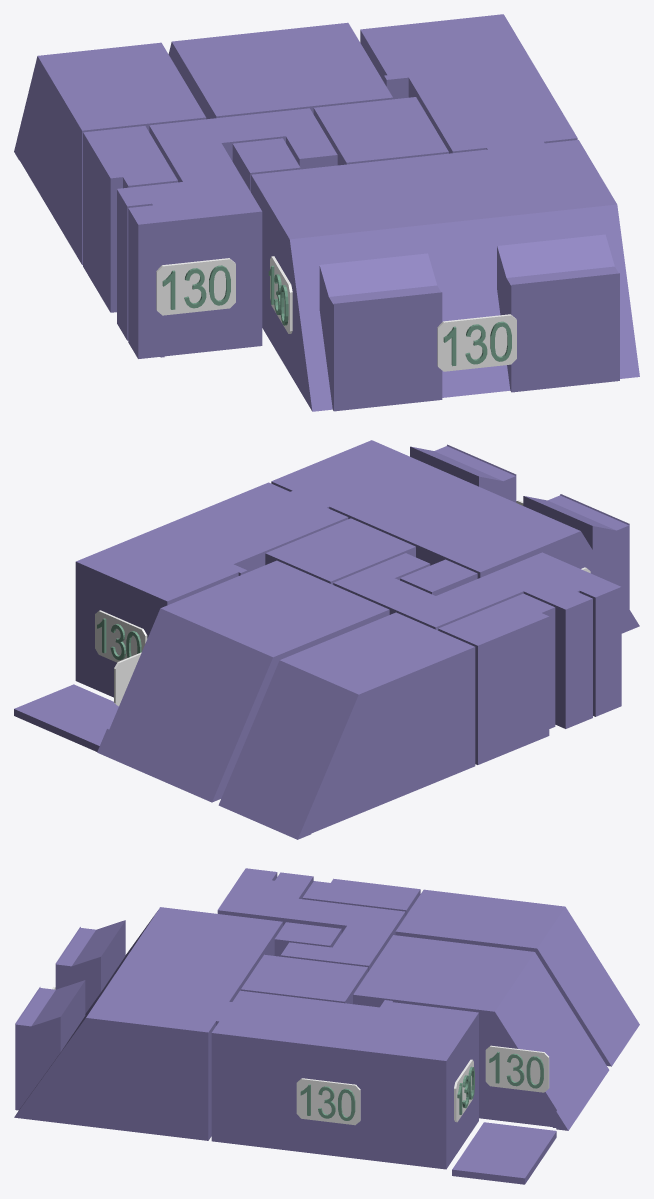
3 views of the same model, one above another, from view 1: azimuth 30°, elevation 25°; view 2: azimuth 150°, elevation 25°; view 3: azimuth 270°, elevation 25° (orthographic). The views are drawn at different scales.
Visible parts, largest first — view 1: g_0, g_5, g_1, g_3, g_2, g_7, g_4, g_28, g_32, g_6, g_12; view 2: g_3, g_2, g_0, g_1, g_5, g_7, g_4, g_8, g_6, g_20, g_24; view 3: g_0, g_1, g_2, g_3, g_5, g_8, g_4, g_7, g_24, g_16, g_6, g_20.
Boxes of the visible parts, bbox=[...] form: g_0: bbox=[251, 140, 639, 411]; g_5: bbox=[117, 108, 337, 358]; g_1: bbox=[360, 14, 577, 153]; g_3: bbox=[14, 42, 206, 264]; g_2: bbox=[168, 22, 392, 119]; g_7: bbox=[83, 126, 177, 312]; g_4: bbox=[313, 97, 448, 165]; g_28: bbox=[437, 314, 516, 371]; g_32: bbox=[156, 258, 235, 315]; g_6: bbox=[232, 138, 300, 191]; g_12: bbox=[270, 256, 292, 333]; g_3: bbox=[218, 612, 475, 839]; g_2: bbox=[97, 560, 389, 802]; g_0: bbox=[271, 440, 639, 633]; g_1: bbox=[75, 482, 348, 697]; g_5: bbox=[333, 552, 621, 728]; g_7: bbox=[438, 593, 555, 764]; g_4: bbox=[265, 518, 415, 584]; g_8: bbox=[14, 684, 118, 751]; g_6: bbox=[400, 559, 477, 595]; g_20: bbox=[95, 610, 147, 662]; g_24: bbox=[114, 652, 141, 706]; g_0: bbox=[14, 907, 282, 1140]; g_1: bbox=[211, 990, 478, 1169]; g_2: bbox=[353, 935, 609, 1130]; g_3: bbox=[395, 889, 639, 1066]; g_5: bbox=[217, 868, 405, 971]; g_8: bbox=[452, 1122, 556, 1184]; g_4: bbox=[241, 954, 368, 1004]; g_7: bbox=[302, 878, 420, 915]; g_24: bbox=[485, 1045, 549, 1092]; g_16: bbox=[296, 1078, 360, 1125]; g_6: bbox=[274, 922, 341, 956]; g_20: bbox=[454, 1059, 473, 1122].
Bounding box in the file's own units: 10.12 × 2.71 × 13.31.
